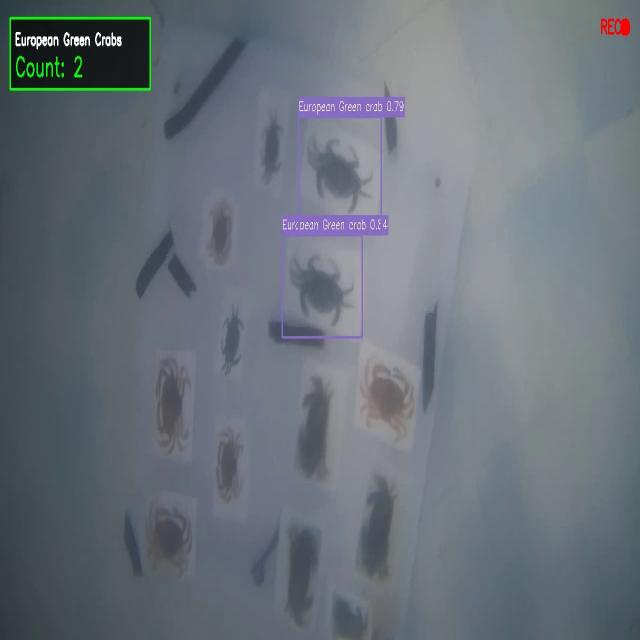European_Green_Crab: (302, 129, 385, 216), (284, 249, 359, 330), (216, 301, 249, 380), (258, 103, 288, 184)
